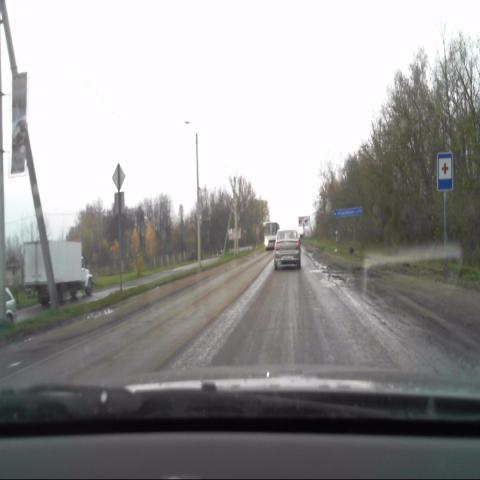7_1: (436, 153, 454, 190)
